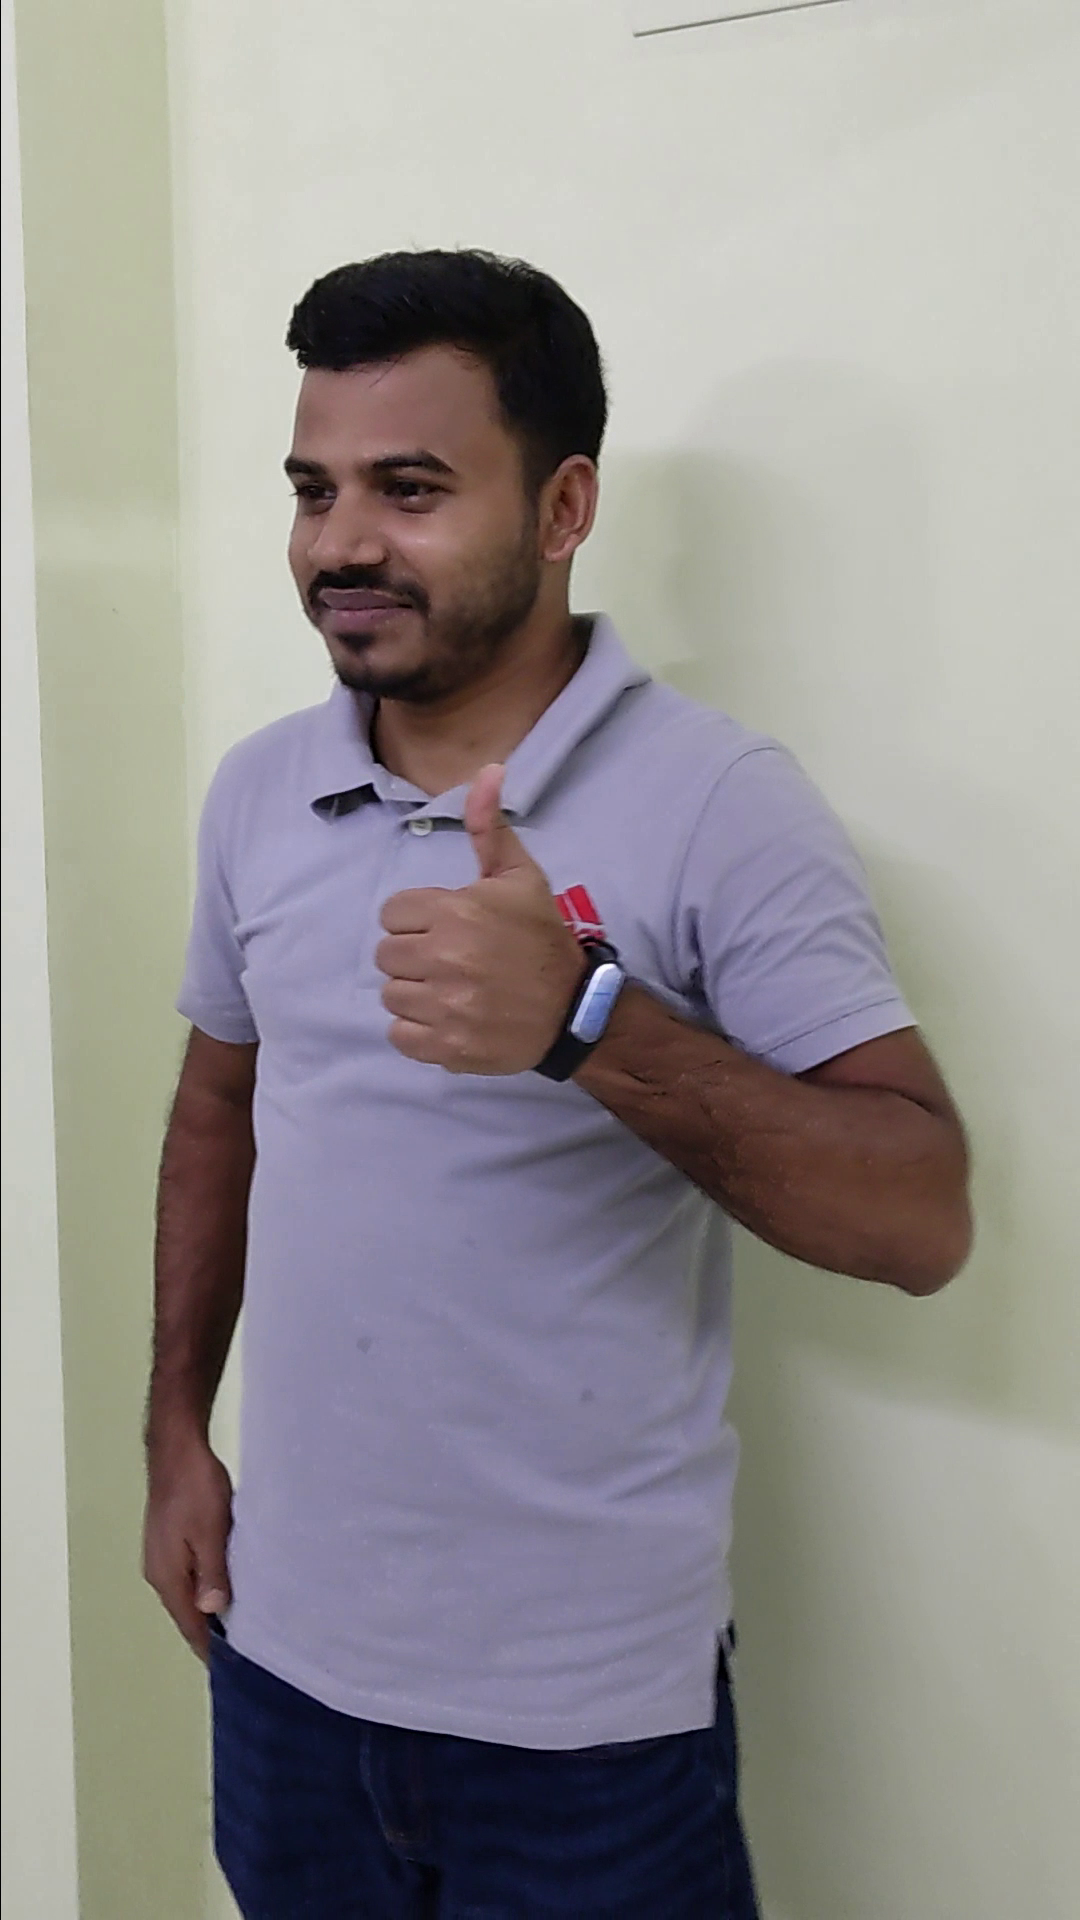Like: (373, 760, 613, 1096)
None: (115, 1402, 262, 1696)
